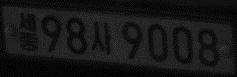0: (171, 24, 194, 65), (147, 23, 169, 63)
8: (197, 28, 220, 67), (66, 16, 89, 54)
9: (121, 21, 144, 60), (40, 14, 63, 52)
사: (91, 21, 113, 55)
세종_V: (17, 12, 39, 51)
